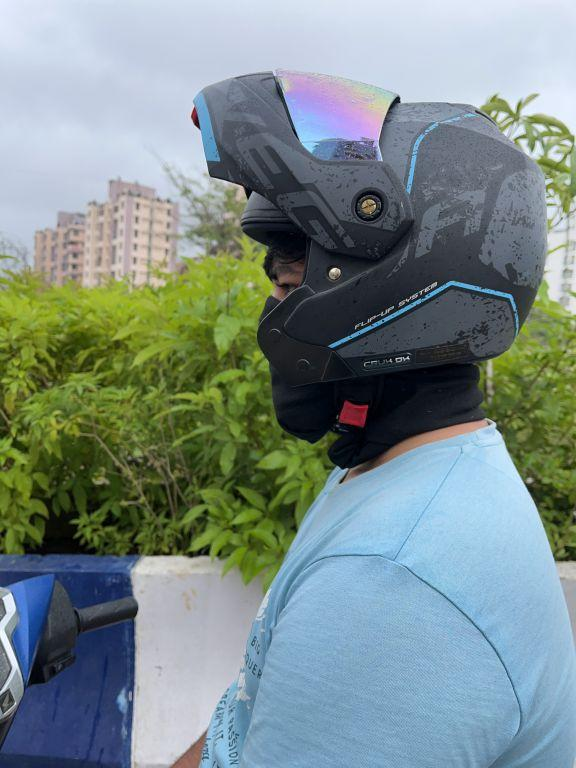helmet: (179, 55, 561, 443)
